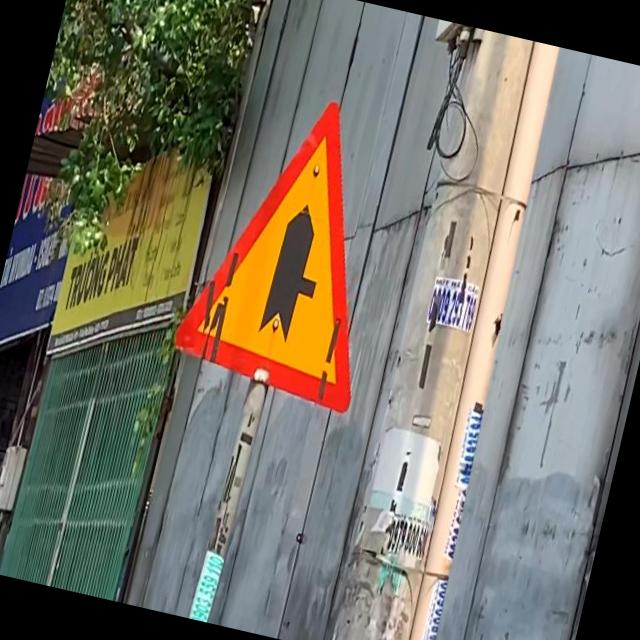W-207b: (166, 76, 415, 412)
